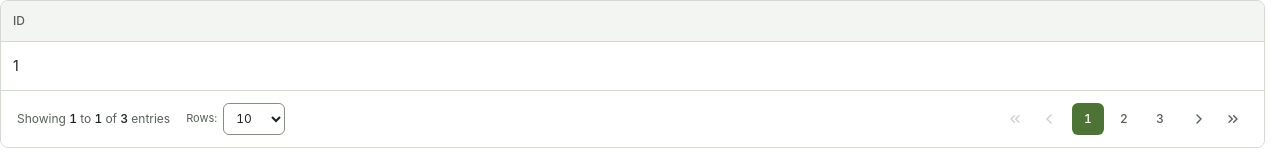
DataTable accessibility › names page controls and identifies the current page after navigation
Step 1. Click the button named "Page 2" → (1124, 118), box [1108, 102, 1140, 134]
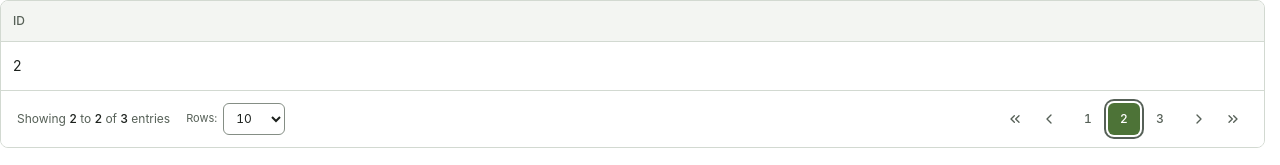
Check: the cell reads "2", box [13, 56, 22, 74]
